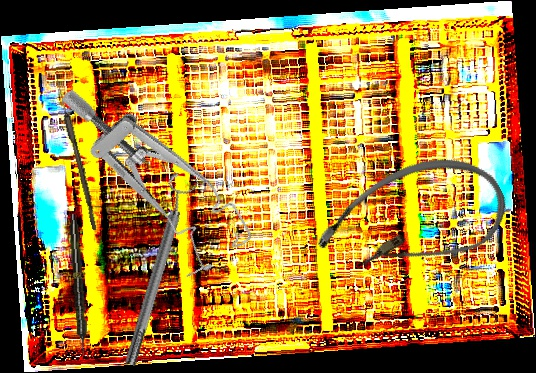Cannula: (304, 134, 520, 310)
Fixation Ring: (113, 171, 202, 369)
Handpiece: (67, 213, 89, 356)
Speculum: (57, 48, 258, 291)
Surgical Spoon: (51, 73, 101, 231)
